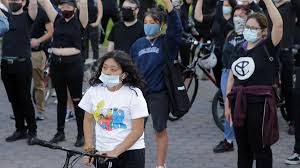mask_weared_incorrect: (99, 64, 122, 85), (119, 5, 139, 25)
with_mask: (242, 23, 261, 40), (143, 20, 159, 35), (60, 6, 74, 20), (232, 13, 246, 25), (221, 3, 234, 14)
